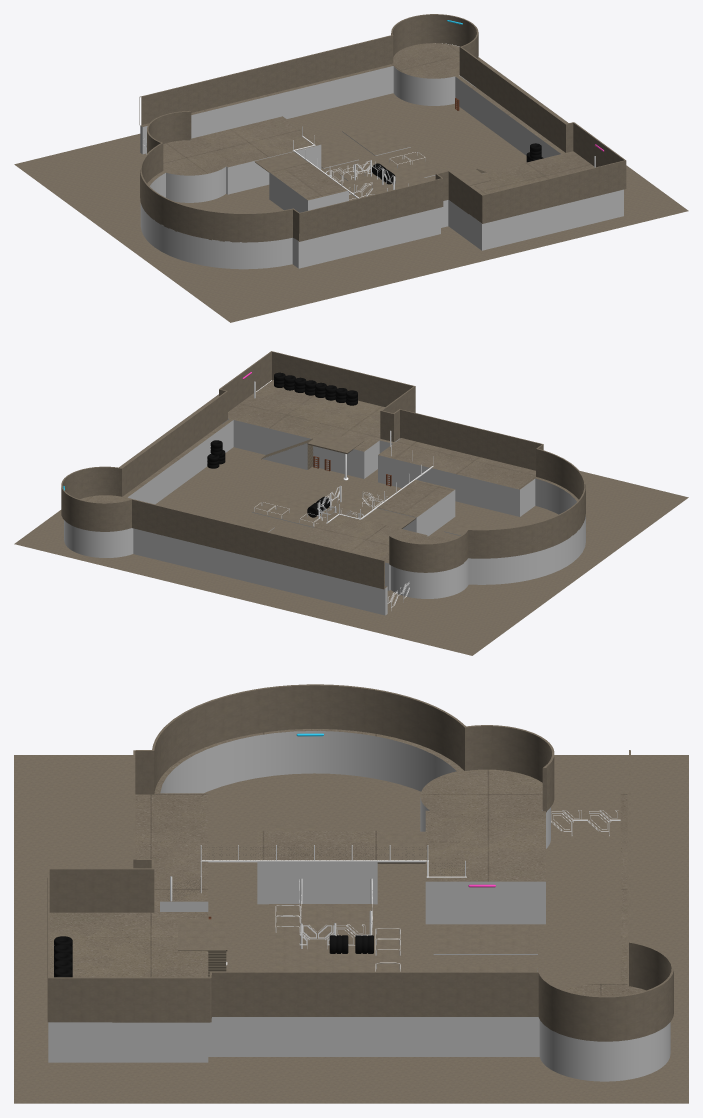
File: Terrain_blender.gltf
3 views of the same model, one above another, from view 1: azimuth 30°, elevation 25°; view 2: azimuth 150°, elevation 25°; view 3: azimuth 270°, elevation 25° (orthographic). The views are drawn at different scales.
Visible parts, largest first — view 1: TallBuildings, Floor, UpperWalls, Curve.004; view 2: TallBuildings, UpperWalls, Floor, Curve.004, Stairs; view 3: Floor, TallBuildings, UpperWalls, Curve.004.
Part boxes in pixels (<box>): TallBuildings: <box>140,43,623,269</box>; Floor: <box>14,57,688,322</box>; UpperWalls: <box>139,14,626,242</box>; Curve.004: <box>313,128,441,200</box>; TallBuildings: <box>64,380,585,615</box>; UpperWalls: <box>61,351,585,589</box>; Floor: <box>14,393,688,655</box>; Curve.004: <box>233,485,493,539</box>; Stairs: <box>261,438,313,469</box>; Floor: <box>14,755,688,1103</box>; TallBuildings: <box>48,729,670,1081</box>; UpperWalls: <box>47,684,673,1041</box>; Curve.004: <box>269,824,537,971</box>.
Bounding box in the file's own units: 88.89 × 10.7 × 72.73.
